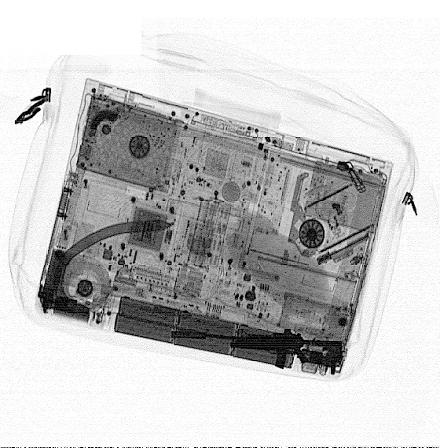Gun: (168, 328, 346, 368)
